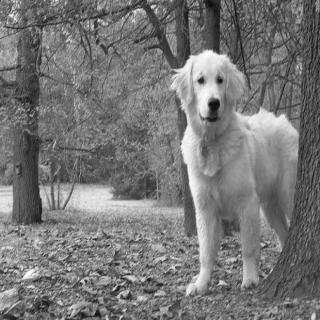dog: (173, 52, 244, 134)
nose: (206, 94, 222, 113)
